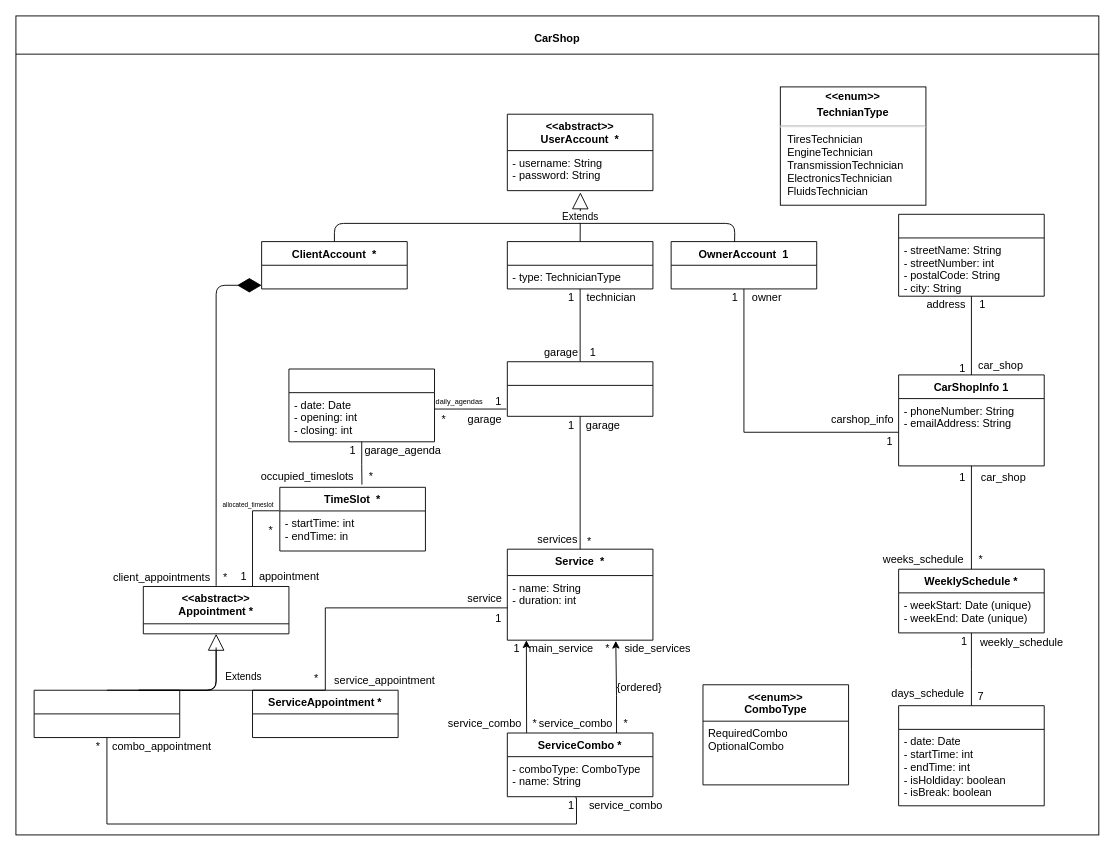
Some shapes in this 1115 by 851 pixel diagram are drawn without their labels. The box of each missing label's shape, as (x1, y1, x2, y2) in pixels:
Address 1: (898, 213, 1044, 296)
ComboAppointment *: (33, 689, 180, 738)
DaySchedule *: (898, 705, 1044, 806)
Garage 5: (506, 361, 653, 416)
GarageAgenda *: (288, 368, 435, 442)
TechnicianAccount 5: (506, 241, 653, 289)
